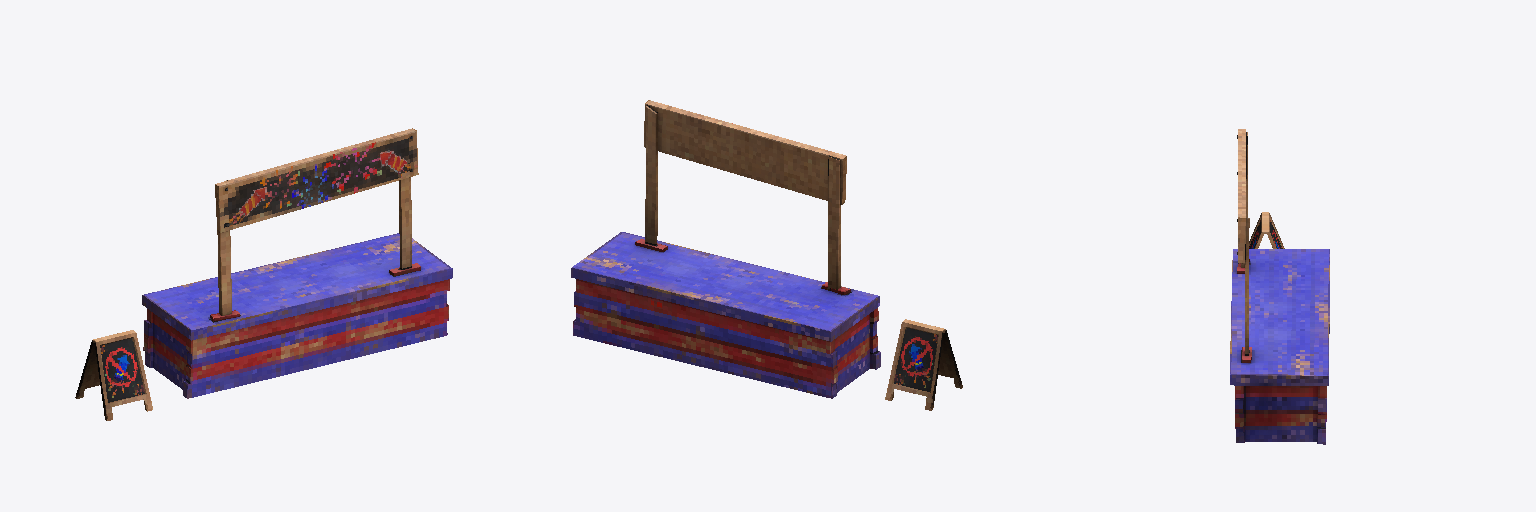
3 renders of one model, left to right at view 1: azimuth 30°, elevation 25°; view 2: azimuth 150°, elevation 25°; view 3: azimuth 270°, elevation 25°, orthographic.
Parts seen in each view (by area): view 1: FireworkStand_FireworkStand_0, FireworkSign_FireworkStand_0; view 2: FireworkStand_FireworkStand_0, FireworkSign_FireworkStand_0; view 3: FireworkStand_FireworkStand_0, FireworkSign_FireworkStand_0.
Boxes of the visible parts, box(x1,y1,x2,y2) form: FireworkStand_FireworkStand_0: box(142, 128, 452, 398); FireworkSign_FireworkStand_0: box(75, 330, 152, 420); FireworkStand_FireworkStand_0: box(571, 100, 880, 398); FireworkSign_FireworkStand_0: box(885, 319, 962, 410); FireworkStand_FireworkStand_0: box(1230, 129, 1329, 444); FireworkSign_FireworkStand_0: box(1249, 212, 1284, 248).
Size of the model in its own units: 2.82 by 1.67 by 0.7135.
Materials: 1 (1 with a texture image).